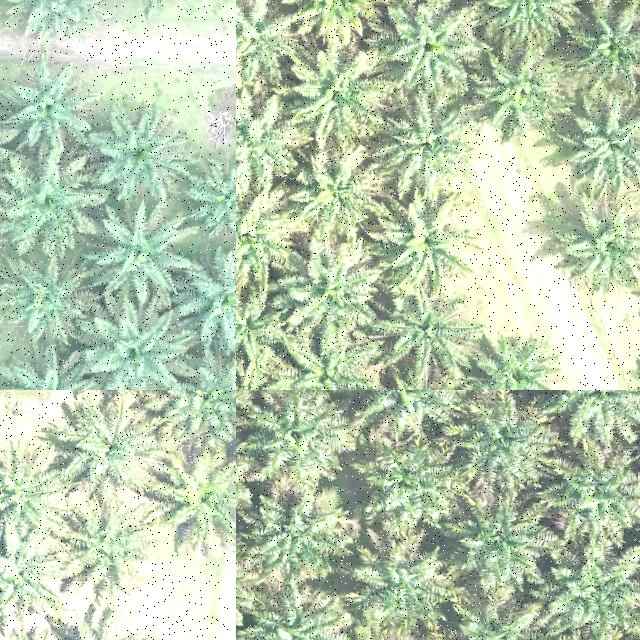Ganoderma: (172, 463, 236, 533)
